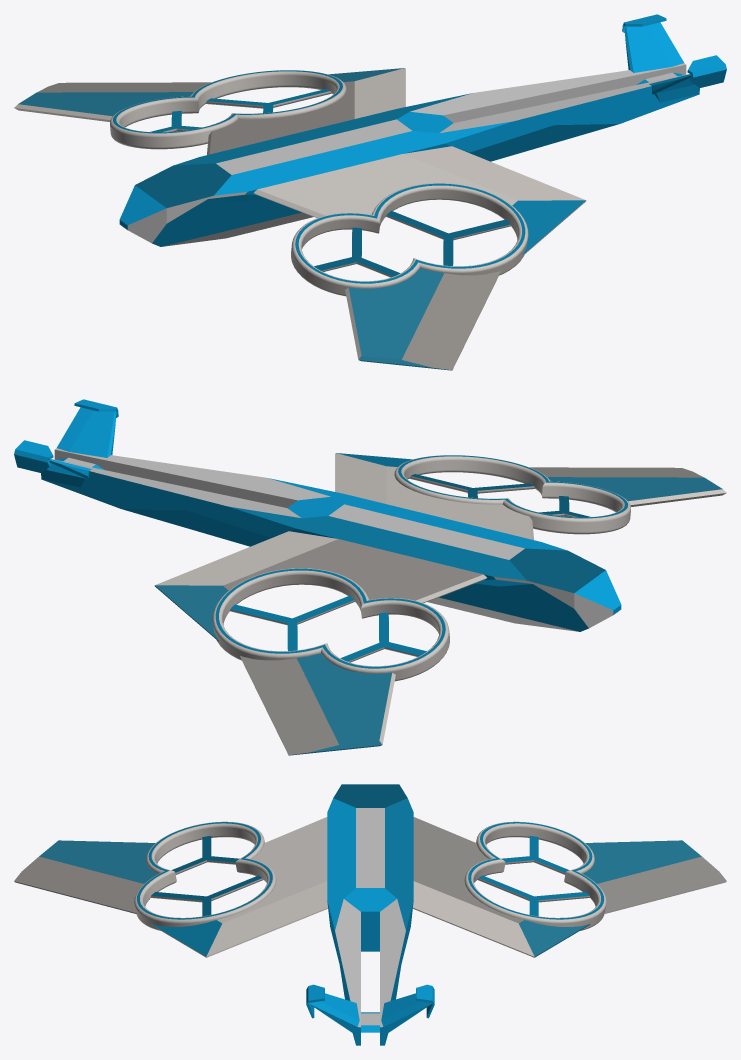
File: Scout2Assembly_Full.glb
3 views of the same model, one above another, from view 1: azimuth 30°, elevation 25°; view 2: azimuth 150°, elevation 25°; view 3: azimuth 270°, elevation 25° (orthographic). The views are drawn at different scales.
Parts seen in each view (by area): view 1: Scout2Assembly_Full; view 2: Scout2Assembly_Full; view 3: Scout2Assembly_Full.
Boxes of the visible parts, bbox=[...] form: Scout2Assembly_Full: bbox=[14, 14, 726, 370]; Scout2Assembly_Full: bbox=[14, 399, 726, 755]; Scout2Assembly_Full: bbox=[14, 784, 726, 1045].
Bounding box in the file's own units: 1.26 × 0.1813 × 1.51.
